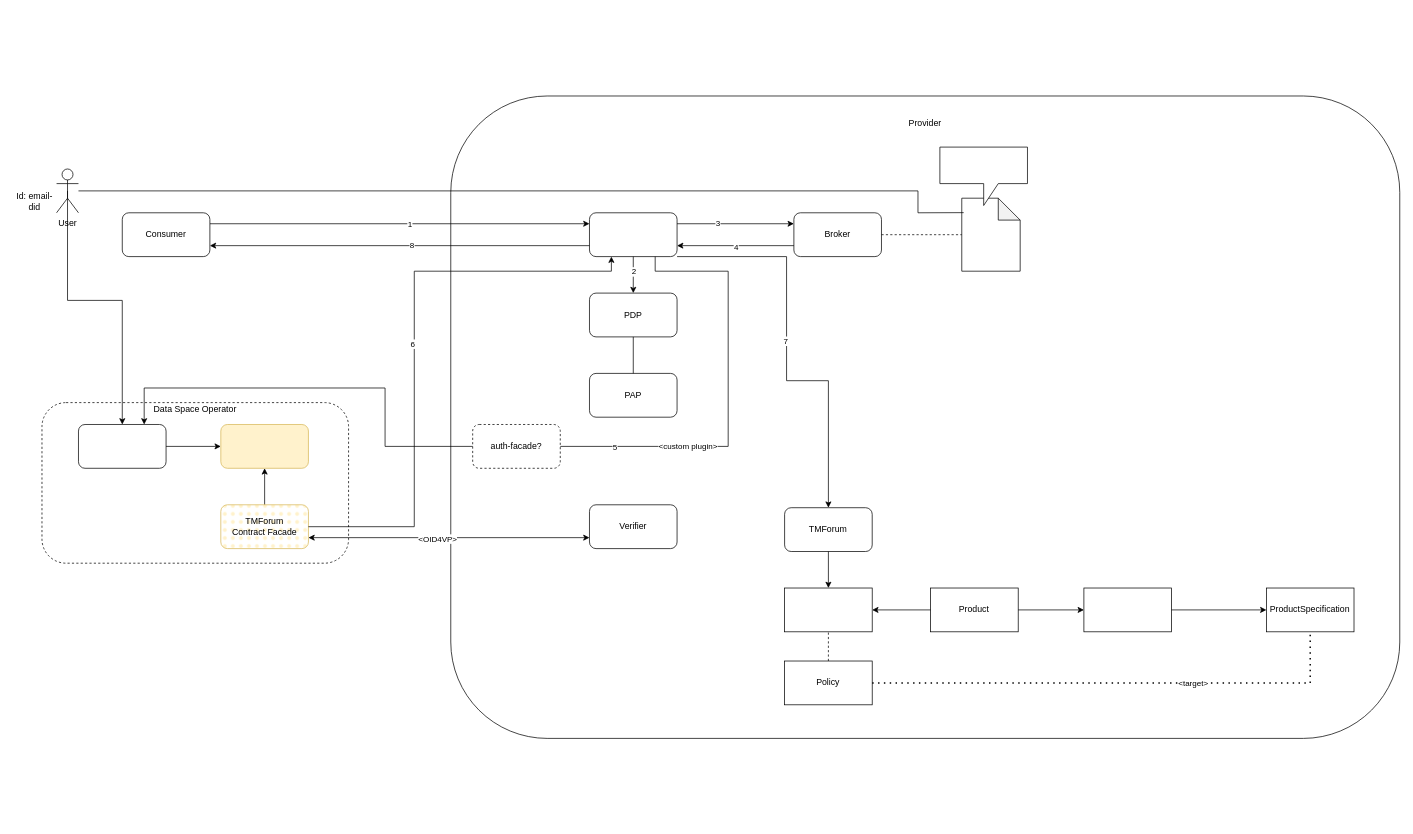
This 1413x834 diagram has some shape labels left out. Each missing label, with the centre of its shape:
Agreement: the point at 828,609
Consent Manager: the point at 264,446
Data: the point at 990,234
decentralized-iam: the point at 122,446
needs to be flagged as personal?: the point at 983,175
PEP: the point at 633,234
ProductOffering: the point at 1127,609
